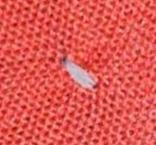hole: (59, 53, 100, 93)
